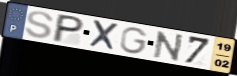7: (183, 35, 212, 65)
G: (119, 27, 150, 56)
N: (152, 30, 186, 63)
P: (50, 13, 86, 44)
S: (23, 10, 55, 40)
X: (87, 19, 120, 53)
